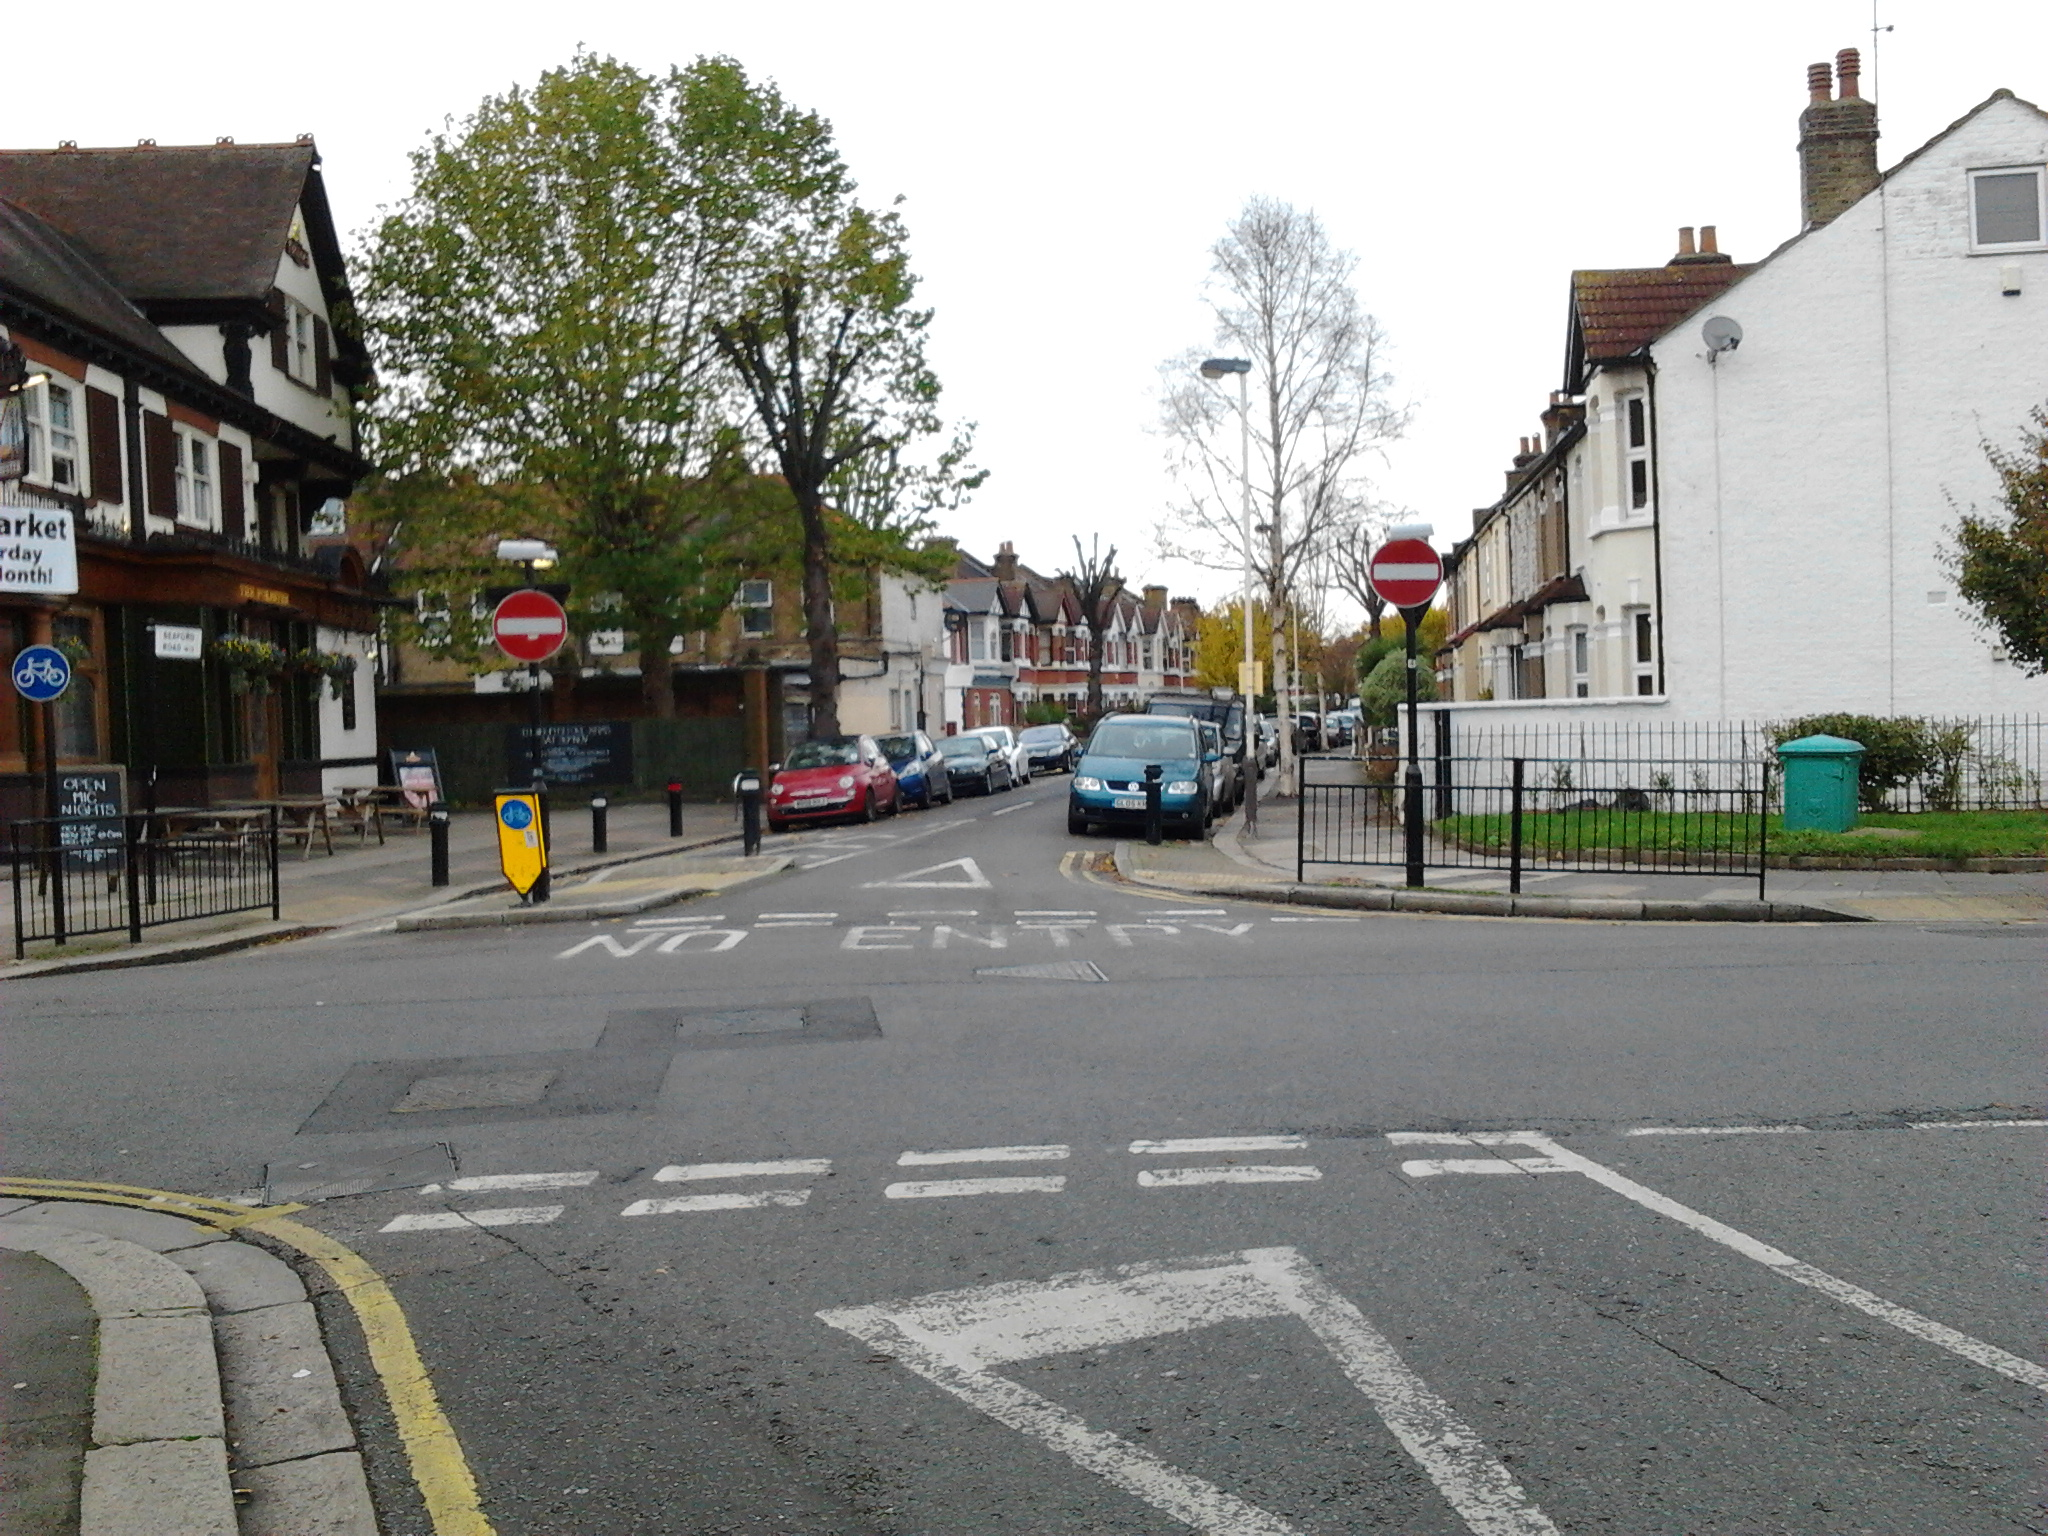No_entry: (490, 591, 568, 663), (1367, 537, 1443, 608)
